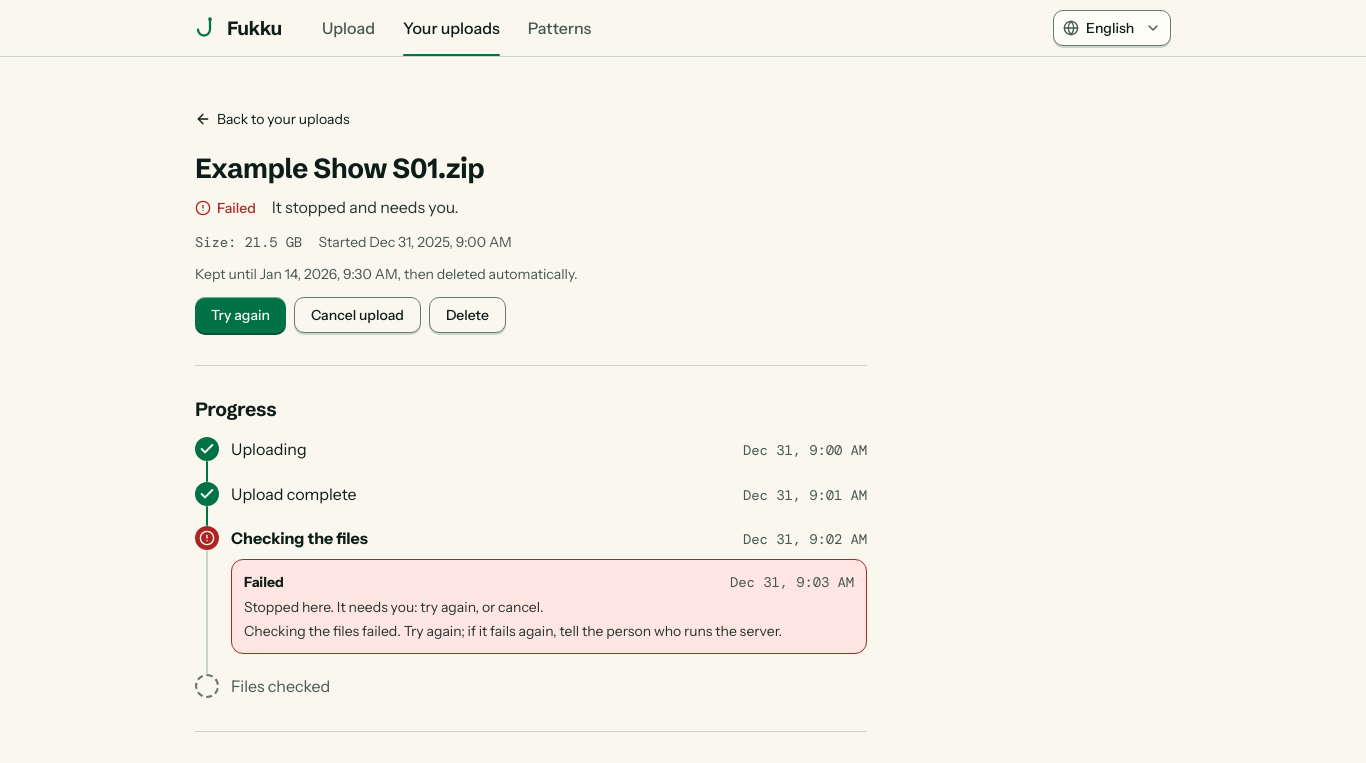
Scenario: a failed job › cancel shows its warning and cancels
Click the button "Cancel upload": (357, 315) [294, 297, 421, 333]
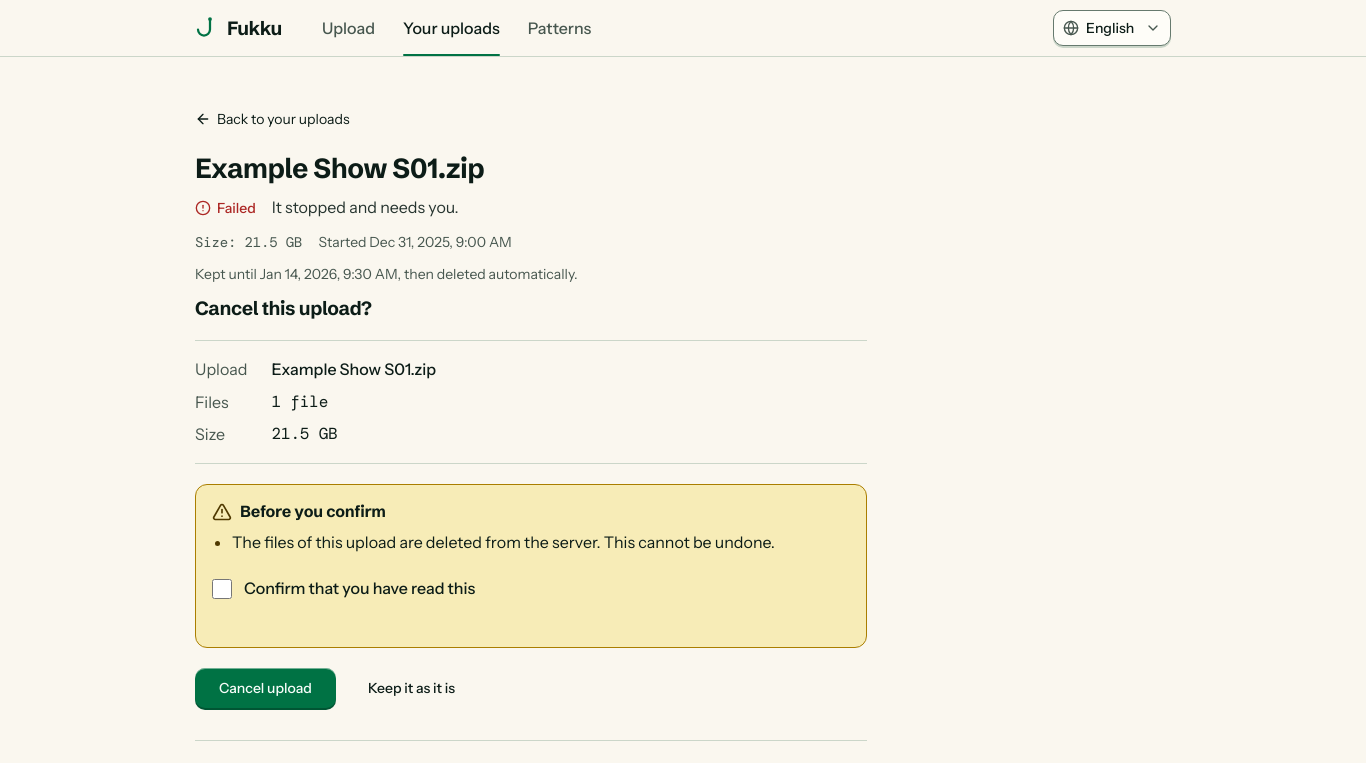
Click the checkbox: (222, 589) [212, 579, 232, 599]
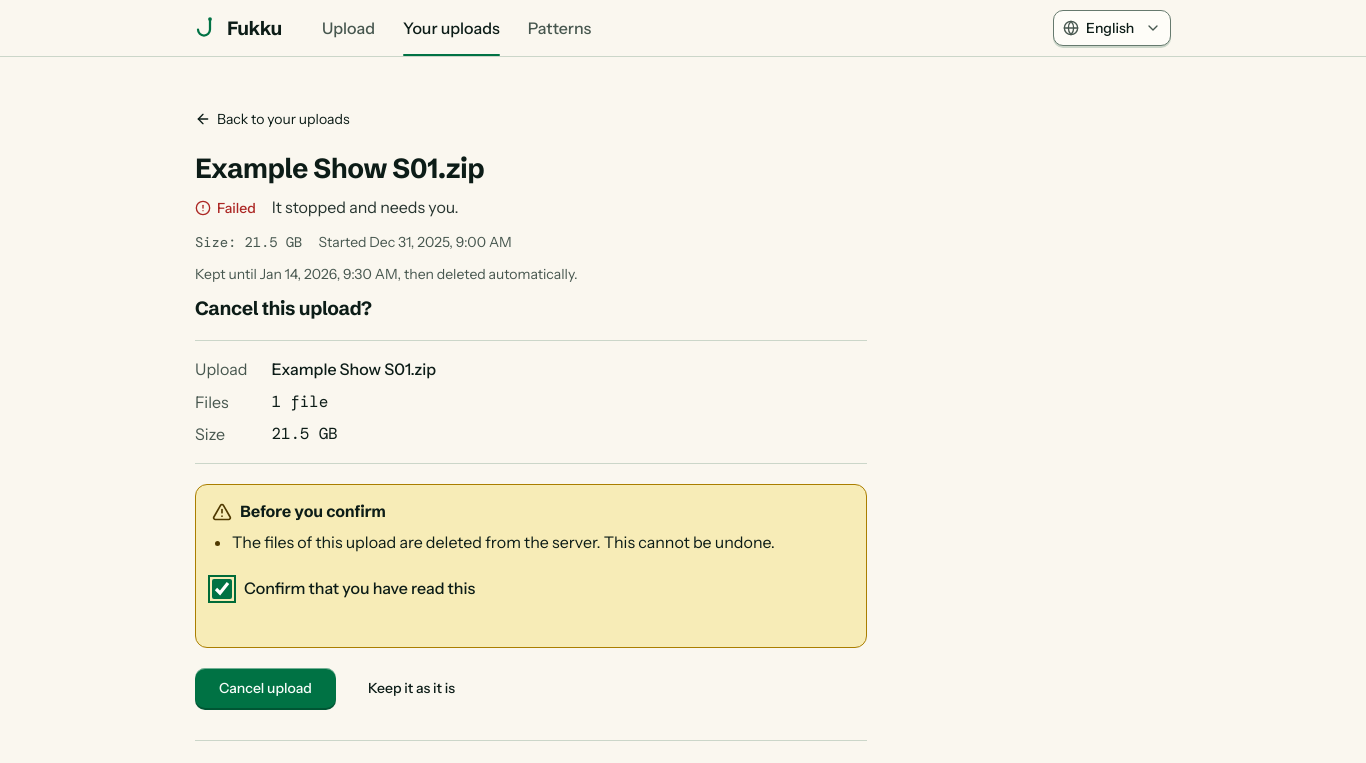
Click the button "Cancel upload": (265, 688) [195, 668, 336, 708]
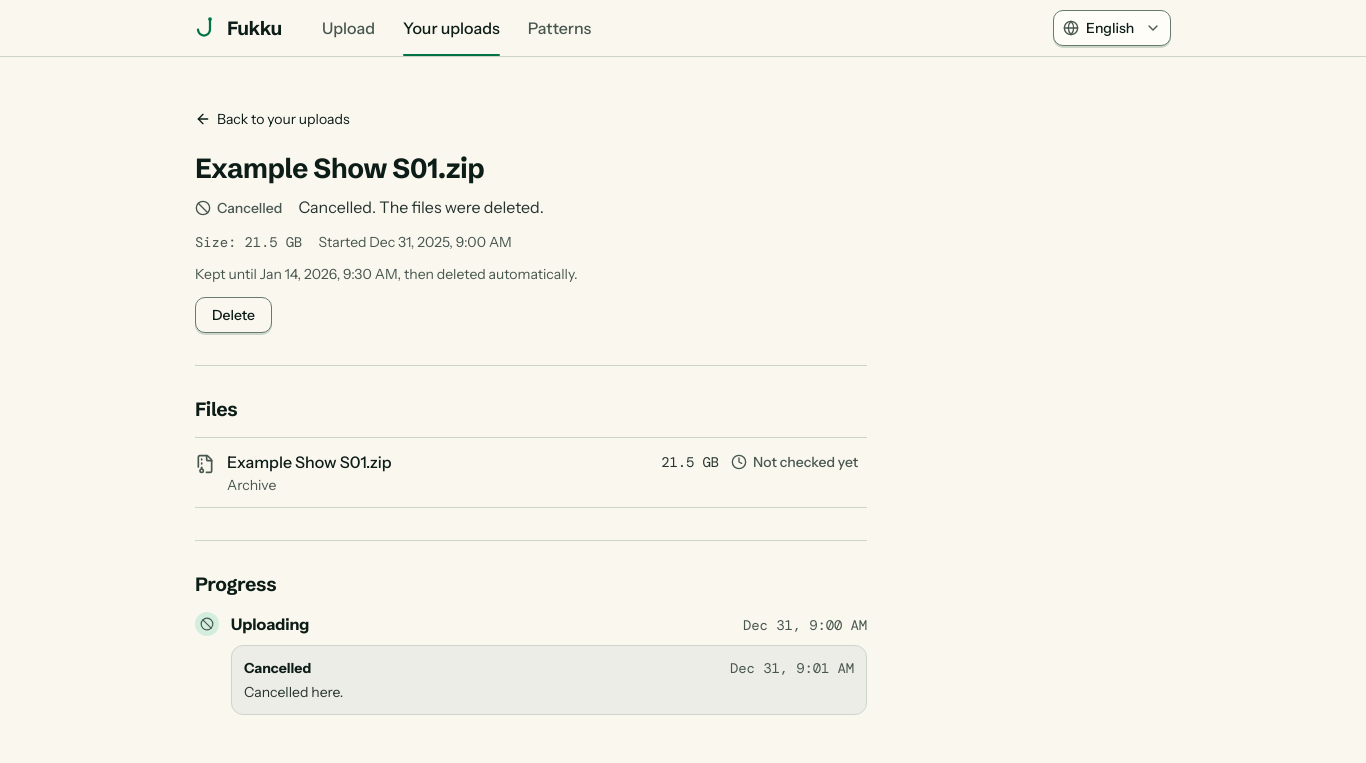
Expected: the text "Cancelled. The files were deleted." is shown, [298, 195, 544, 220]
Expected: the button "Delete" is shown, [195, 297, 272, 333]
Expected: the button "Cancel upload" is gone
